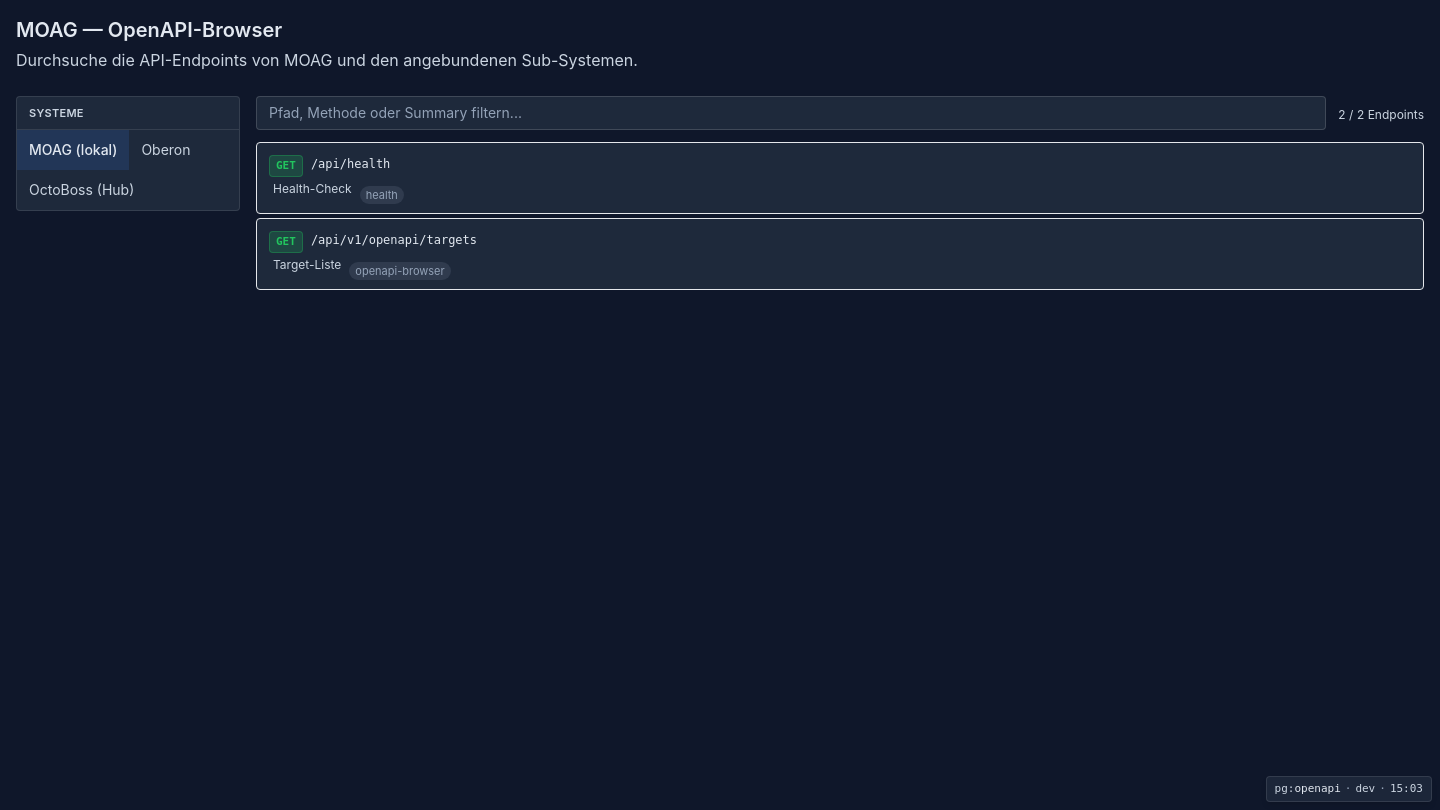
Test case: OpenApiBrowser › zeigt 'nicht erreichbar'-Hinweis fuer nicht erreichbares Target
This screenshot has width=1440, height=810.
Step 1. Click the button with test id "target-btn-octoboss" → (82, 190), box [17,170,146,210]
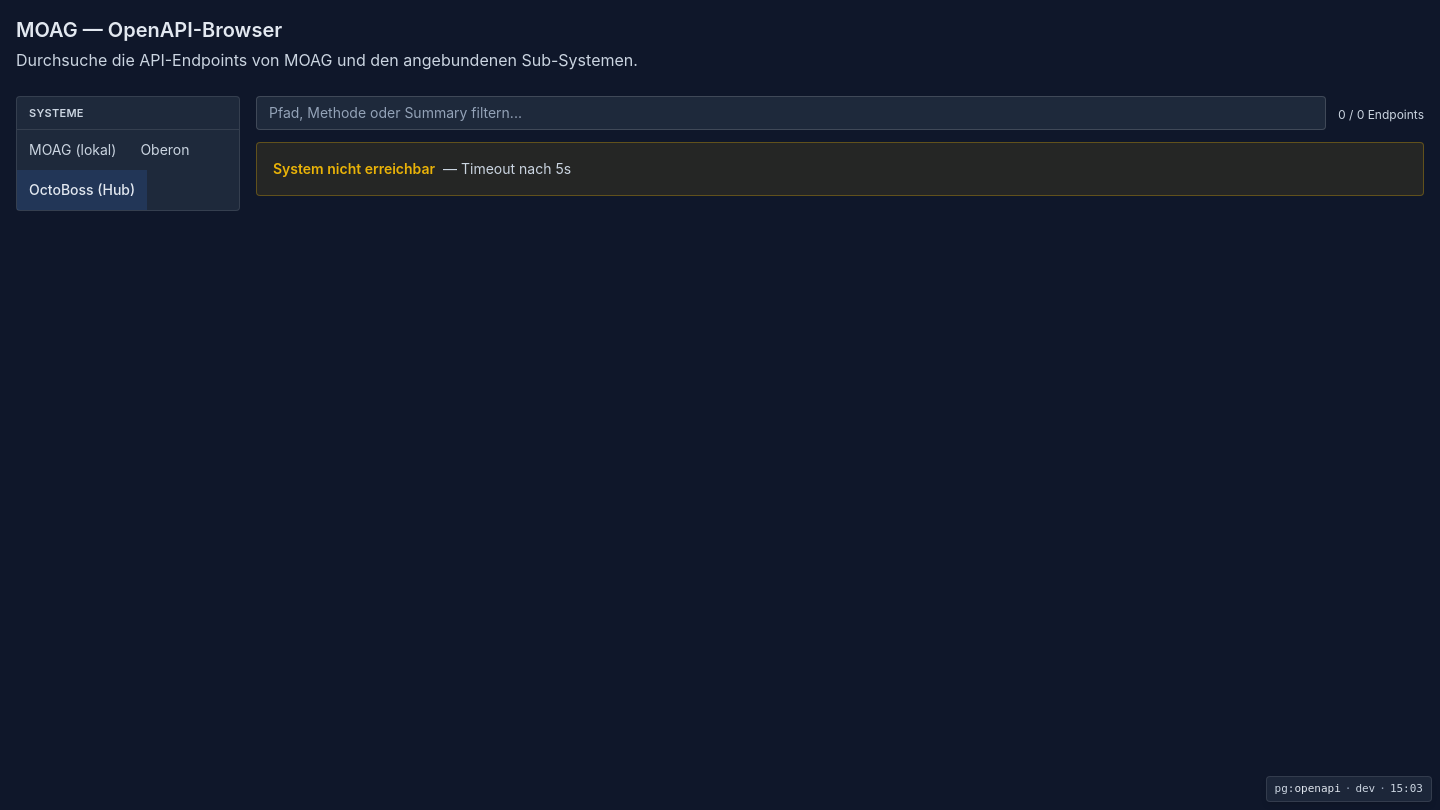
Expected: the element with test id "not-reachable-hint" is shown, [256,142,1424,196]
Expected: the text "System nicht erreichbar" is shown, [273,160,435,177]
